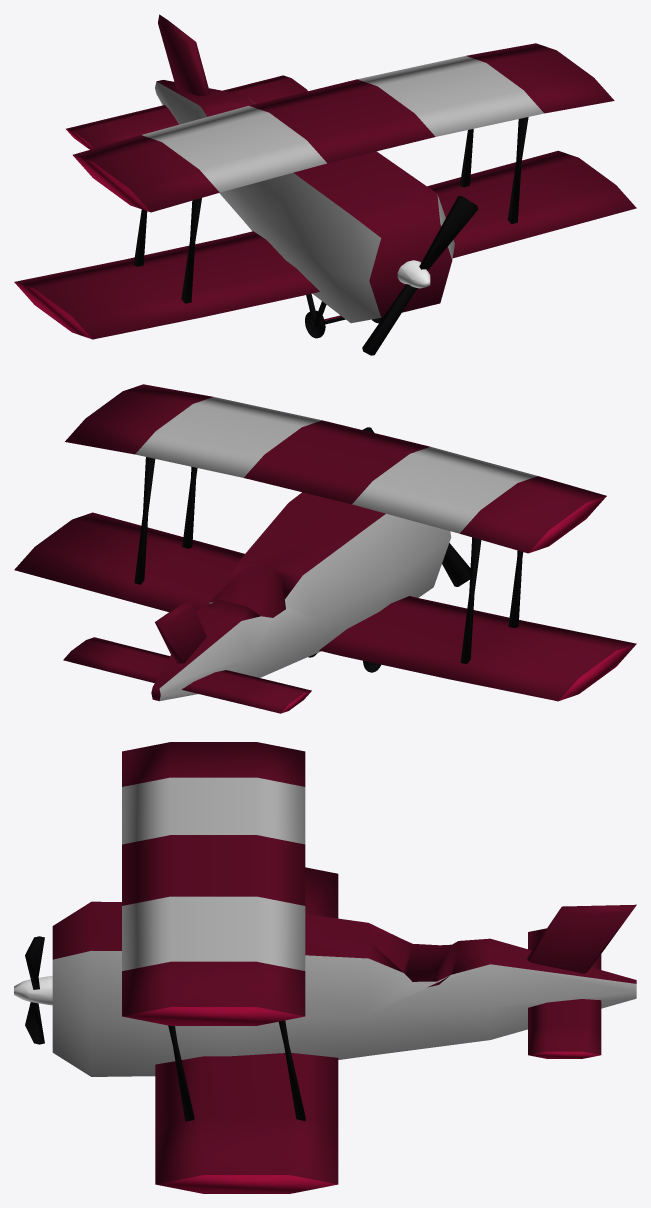
File: AirplaneModelFinalV3.fbx
3 views of the same model, one above another, from view 1: azimuth 30°, elevation 25°; view 2: azimuth 150°, elevation 25°; view 3: azimuth 270°, elevation 25° (orthographic). The views are drawn at different scales.
Parts seen in each view (by area): view 1: Cube, Cube.004, Cube.003, Cube.005, Mball; view 2: Cube, Cube.003, Cube.004, Cube.005; view 3: Cube, Cube.003, Cube.004, Cube.005, Mball.
Boxes of the visible parts, box(x1,y1,x2,y2) form: Cube: box(14, 14, 636, 355); Cube.004: box(142, 56, 543, 192); Cube.003: box(155, 81, 454, 323); Cube.005: box(110, 86, 263, 136); Mball: box(397, 260, 430, 288); Cube: box(14, 384, 636, 713); Cube.003: box(159, 513, 451, 701); Cube.004: box(135, 397, 537, 533); Cube.005: box(107, 648, 267, 702); Cube: box(25, 742, 636, 1193); Cube.003: box(52, 950, 636, 1076); Cube.004: box(122, 777, 305, 970); Cube.005: box(528, 956, 601, 1030); Mball: box(14, 976, 52, 1005).
Bounding box in the file's own units: 1002 × 374 × 854.
1 material, 1 textured.
